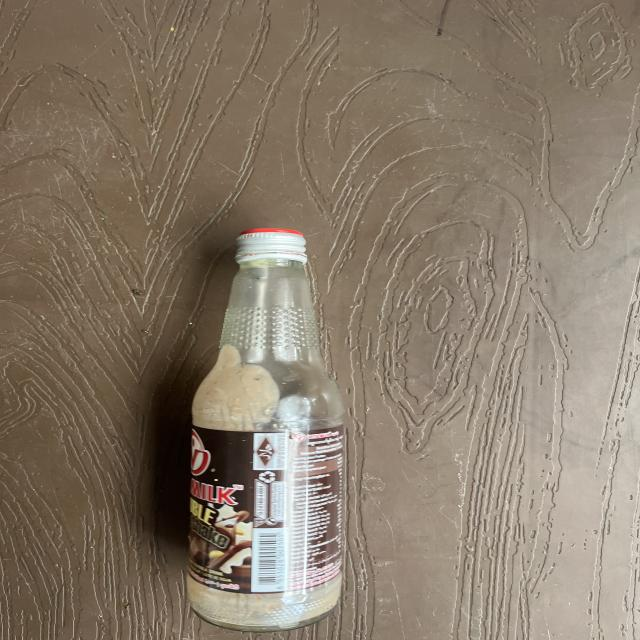Glass_Bottle: (17, 225, 395, 618)
